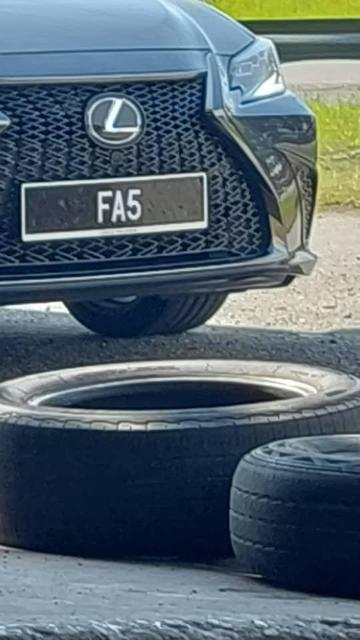License_Plate: (35, 181, 202, 231)
car: (1, 1, 321, 307)
